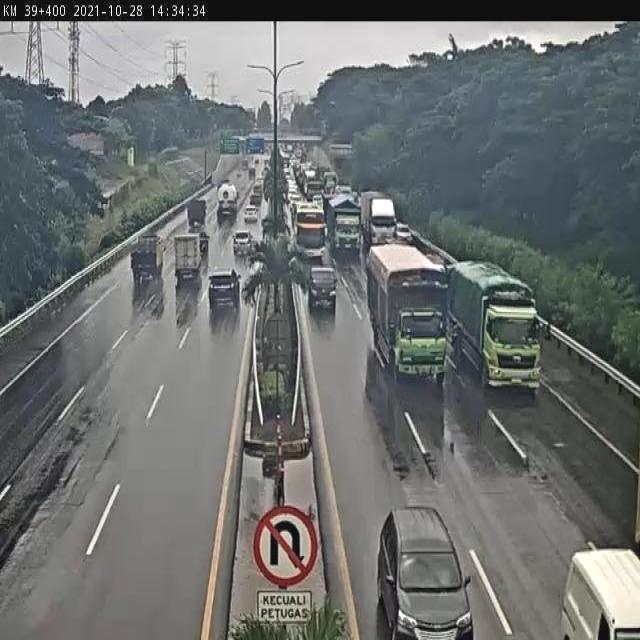Car: (384, 497, 468, 640), (209, 274, 242, 314), (228, 233, 256, 260), (395, 218, 413, 246), (242, 206, 259, 225)
Truck: (362, 248, 458, 388), (446, 260, 542, 395), (326, 192, 362, 260), (359, 192, 397, 256), (293, 202, 326, 260), (130, 232, 165, 283), (174, 233, 206, 285), (217, 182, 238, 219), (187, 198, 207, 230)
Van: (549, 548, 640, 640), (306, 264, 346, 313)
